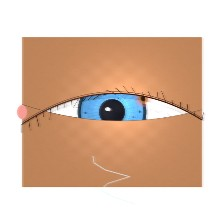foreign_body_visible: (129, 88, 157, 110)
